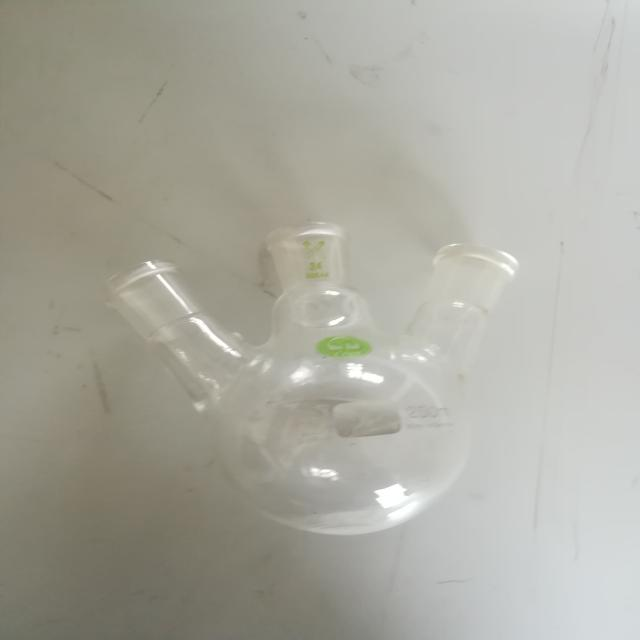Round_Bottom_Flask_Borosilicate_Glass_3_Neck: (67, 189, 571, 582)
